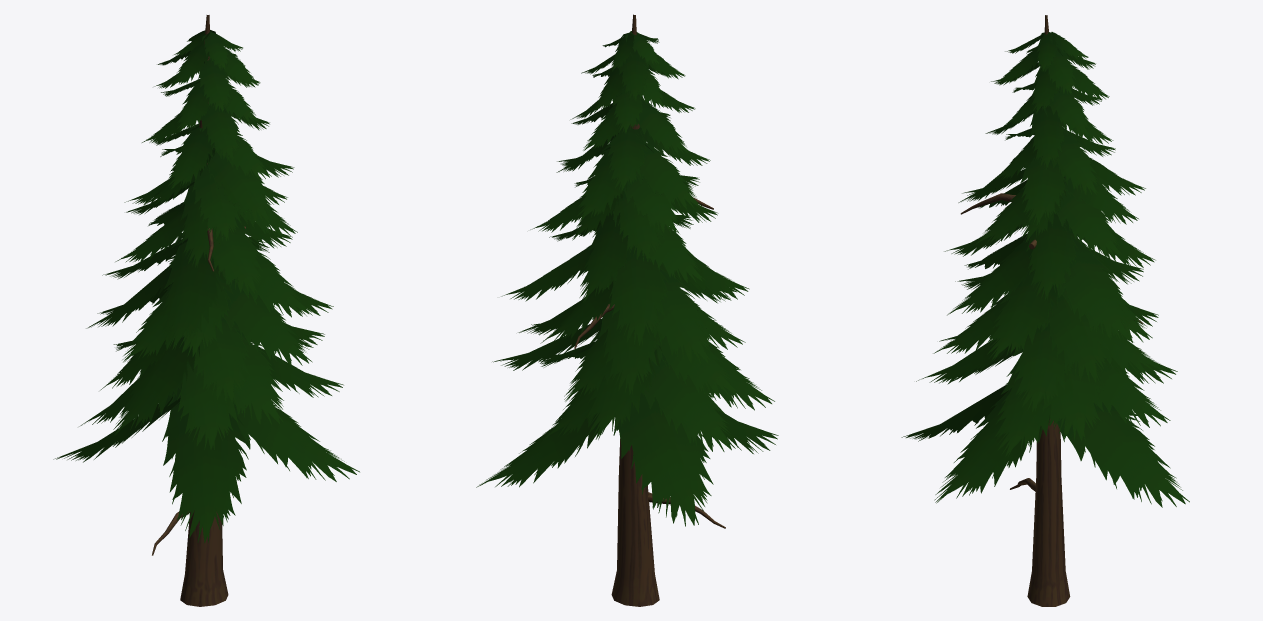
Rendered from SM_Pine_Tree_1.glb.
The picture shows the model from 3 angles, left to right: view 1: azimuth 30°, elevation 25°; view 2: azimuth 150°, elevation 25°; view 3: azimuth 270°, elevation 25°; orthographic projection.
Visible parts, largest first — view 1: SM_Pine_Tree_1; view 2: SM_Pine_Tree_1; view 3: SM_Pine_Tree_1.
Boxes of the visible parts, box(x1,y1,x2,y2) form: SM_Pine_Tree_1: box(53, 15, 359, 606); SM_Pine_Tree_1: box(476, 14, 778, 606); SM_Pine_Tree_1: box(901, 15, 1189, 606).
Size of the model in its own units: 4.88 by 8.66 by 5.42.
Materials: 2 (2 with a texture image).
